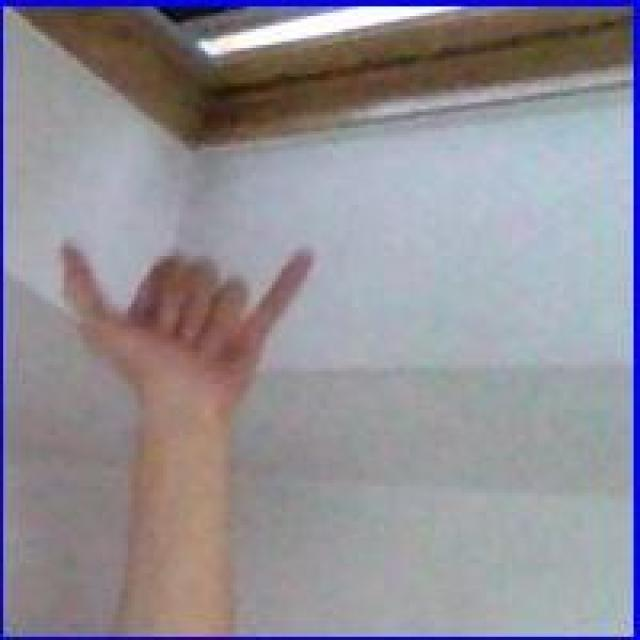Y: (61, 240, 320, 410)
